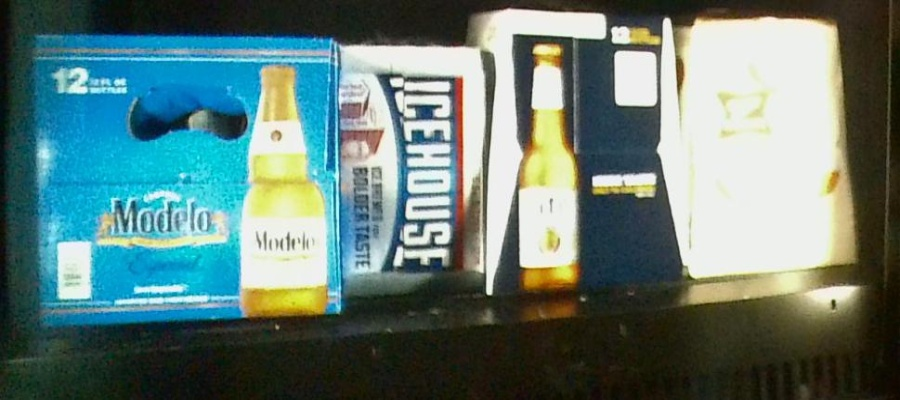bottle: (14, 35, 342, 320), (492, 8, 682, 287), (680, 15, 854, 277), (337, 47, 484, 298)
